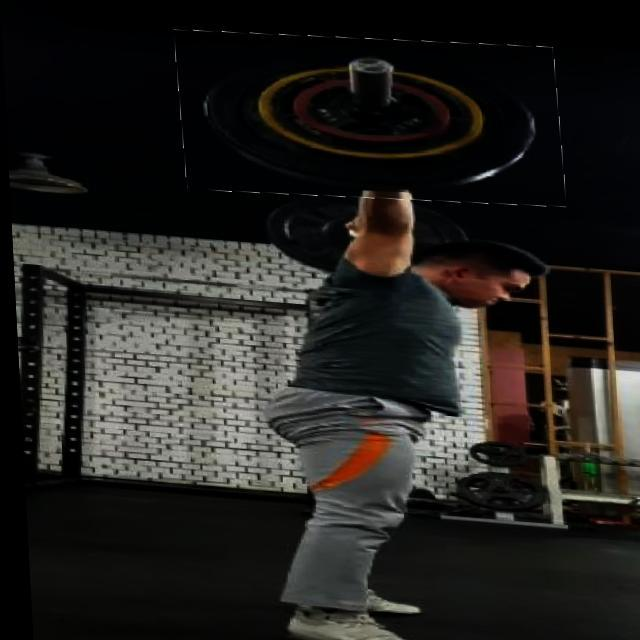barbell: (175, 18, 565, 208)
